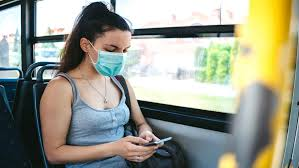surgical: (91, 50, 132, 78)
